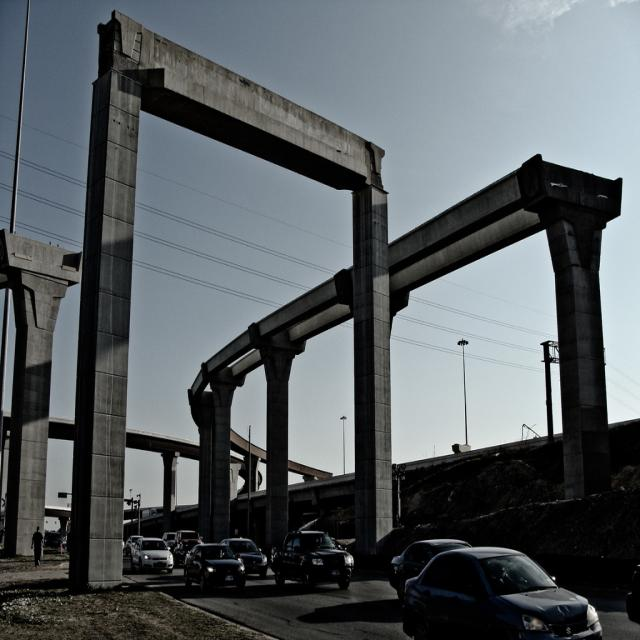car: (266, 526, 354, 592), (128, 535, 172, 573)
